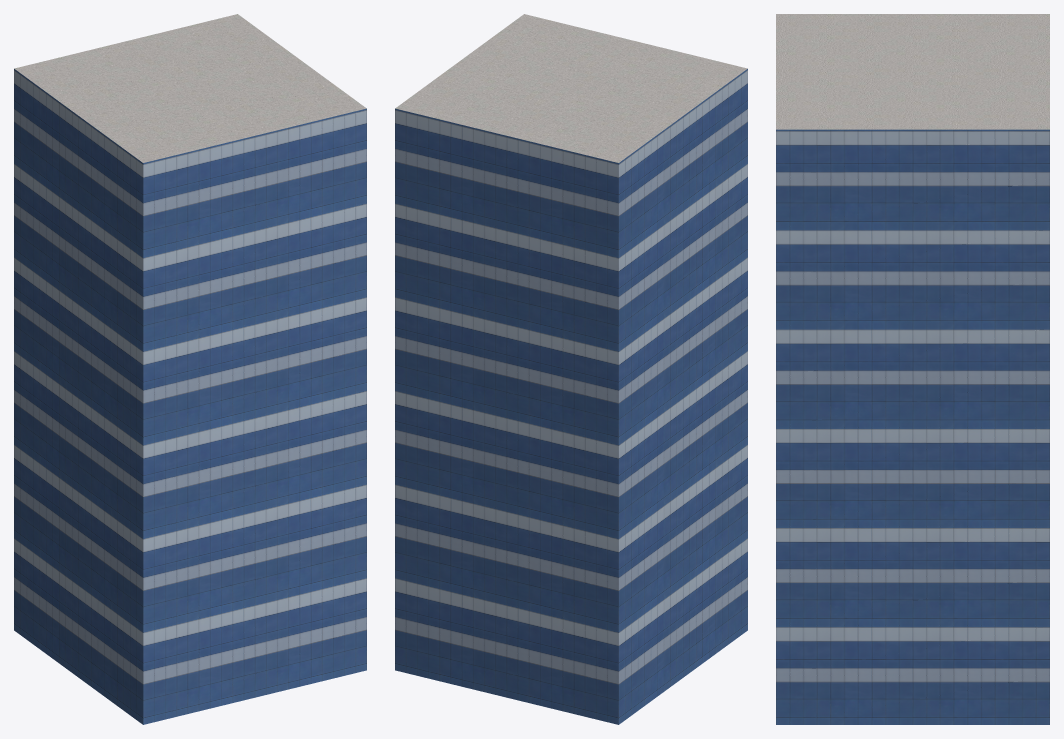
The model's file is building_01.glb.
3 views of the same model, side by side, from view 1: azimuth 30°, elevation 25°; view 2: azimuth 150°, elevation 25°; view 3: azimuth 270°, elevation 25° (orthographic). The views are drawn at different scales.
Visible parts, largest first — view 1: building_001; view 2: building_001; view 3: building_001.
Part boxes in pixels (x1=…): building_001: x1=14, y1=14, x2=366, y2=724; building_001: x1=395, y1=14, x2=747, y2=724; building_001: x1=776, y1=14, x2=1049, y2=724.
Bounding box in the file's own units: 56.57 × 136 × 56.57.
2 materials, 2 textured.
